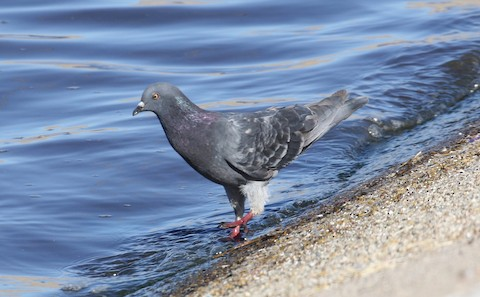pigeon: (130, 74, 372, 248)
